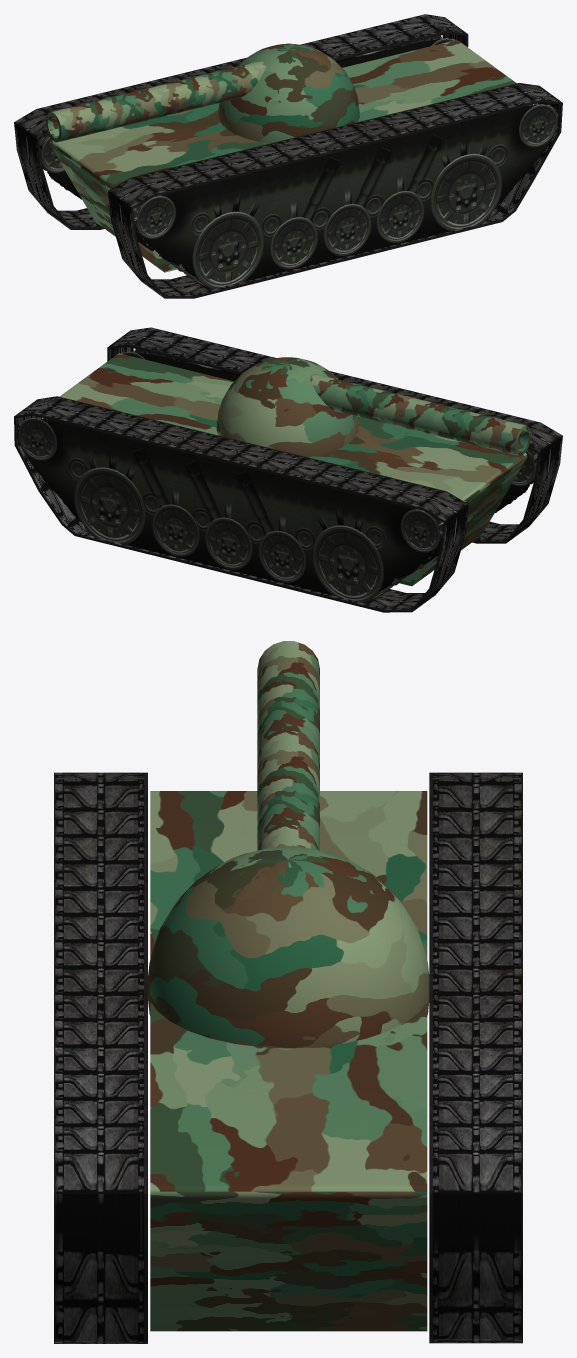
Rendered from Танк.fbx.
3 views of the same model, one above another, from view 1: azimuth 30°, elevation 25°; view 2: azimuth 150°, elevation 25°; view 3: azimuth 270°, elevation 25° (orthographic). The views are drawn at different scales.
Parts seen in each view (by area): view 1: Box003, Танк (×3), Plane001, Plane002, Box004; view 2: Box004, Танк (×3), Plane002, Plane001, Box003; view 3: Танк (×3), Plane001, Plane002.
Part boxes in pixels (x1,y1,x2,y2): Box003: (133, 103, 558, 289); Танк (×3): (46, 40, 516, 272); Plane001: (108, 83, 562, 298); Plane002: (14, 14, 468, 229); Box004: (39, 35, 455, 199); Box004: (17, 417, 443, 602); Танк (×3): (59, 353, 530, 586); Plane002: (14, 396, 468, 612); Plane001: (107, 327, 562, 543); Box003: (121, 349, 537, 512); Танк (×3): (148, 641, 429, 1331); Plane001: (54, 772, 147, 1343); Plane002: (429, 772, 522, 1343).
Size of the model in its own units: 133 by 47.34 by 59.96.
